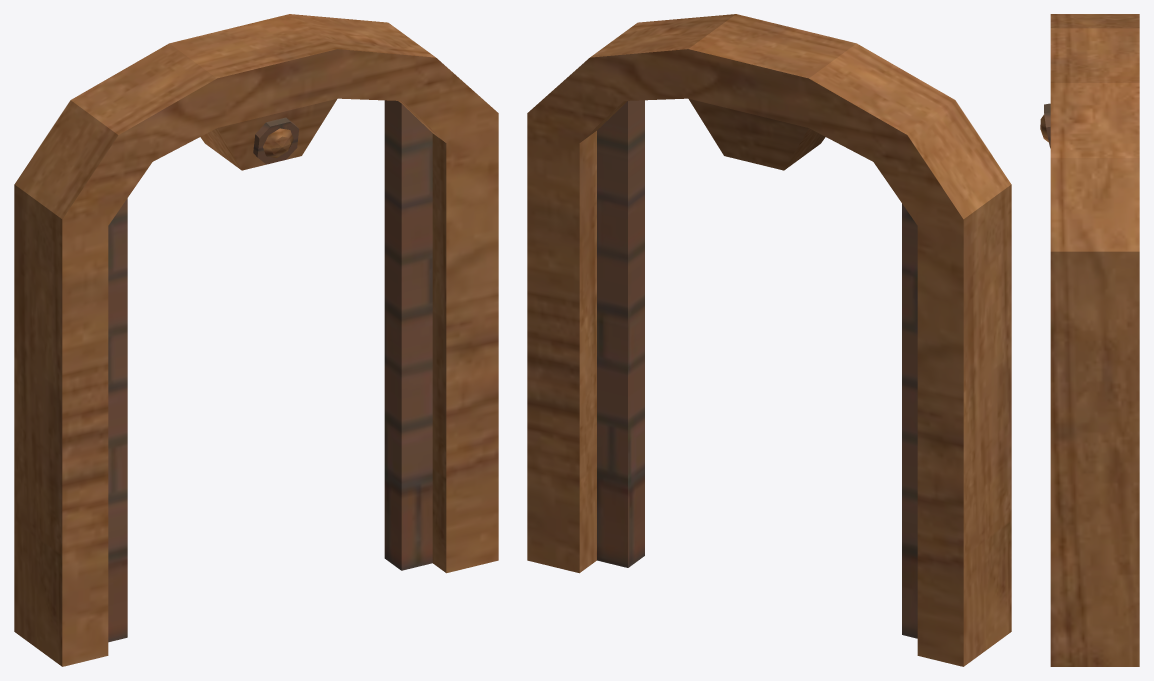
Rendered from pm-interior-door.glb.
The picture shows the model from 3 angles, left to right: view 1: azimuth 30°, elevation 25°; view 2: azimuth 150°, elevation 25°; view 3: azimuth 270°, elevation 25°; orthographic projection. The views are drawn at different scales.
Parts seen in each view (by area): view 1: InteriorDoor; view 2: InteriorDoor; view 3: InteriorDoor.
Boxes of the visible parts, box(x1,y1,x2,y2) form: InteriorDoor: box(14, 14, 498, 666); InteriorDoor: box(527, 14, 1011, 666); InteriorDoor: box(1040, 14, 1139, 666).
Size of the model in its own units: 5.24 by 6.33 by 1.11.
Materials: 1 (1 with a texture image).
